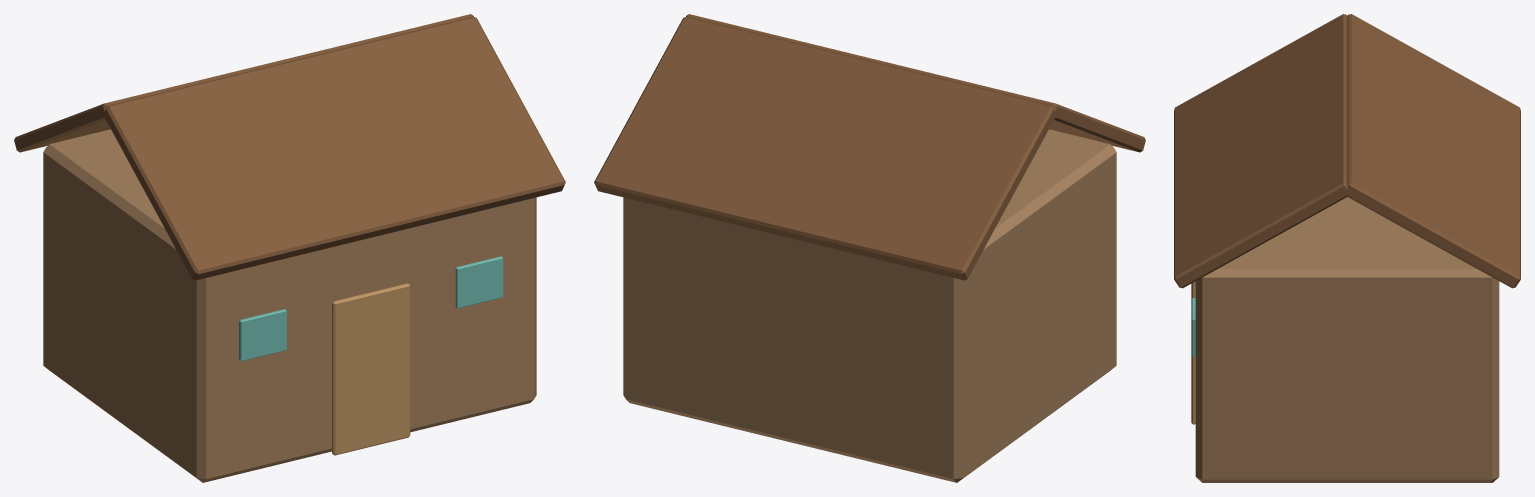
File: CC_House.fbx
3 views of the same model, side by side, from view 1: azimuth 30°, elevation 25°; view 2: azimuth 150°, elevation 25°; view 3: azimuth 270°, elevation 25° (orthographic). The views are drawn at different scales.
Visible parts, largest first — view 1: House walls, Roof slab, House door, Roof slab.001, Window.001, Window; view 2: House walls, Roof slab.001, Roof slab; view 3: House walls, Roof slab, Roof slab.001, House door.
Boxes of the visible parts, x1,y1,x2,y2 form: House walls: (43, 129, 536, 482); Roof slab: (103, 16, 565, 280); House door: (332, 283, 410, 455); Roof slab.001: (14, 14, 473, 152); Window.001: (455, 256, 503, 308); Window: (239, 309, 286, 361); House walls: (623, 129, 1116, 482); Roof slab.001: (594, 16, 1055, 280); Roof slab: (686, 14, 1145, 152); House walls: (1195, 197, 1499, 482); Roof slab: (1174, 14, 1349, 288); Roof slab.001: (1346, 14, 1520, 288); House door: (1191, 281, 1195, 424).
Size of the model in its own units: 4.8 by 4.04 by 4.11.
